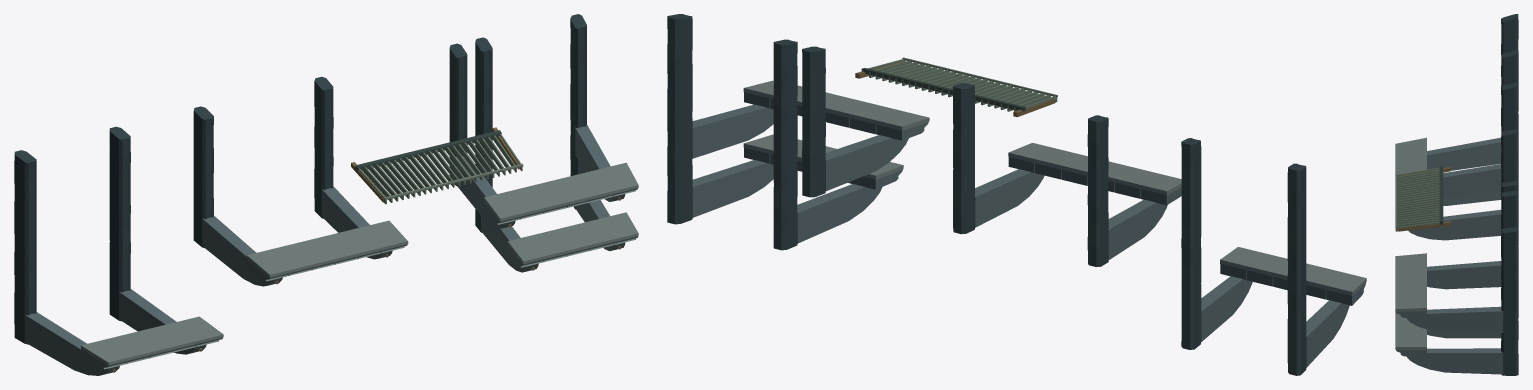
The model's file is drowned-supports.glb.
3 renders of one model, left to right at view 1: azimuth 30°, elevation 25°; view 2: azimuth 150°, elevation 25°; view 3: azimuth 270°, elevation 25°, orthographic. The views are drawn at different scales.
Parts seen in each view (by area): view 1: drowned-supports; view 2: drowned-supports; view 3: drowned-supports.
Boxes of the visible parts, <box> form: drowned-supports: <box>14,14,638,375</box>; drowned-supports: <box>667,14,1366,375</box>; drowned-supports: <box>1395,14,1518,375</box>.
Bounding box in the file's own units: 24.64 × 7.81 × 5.9.
